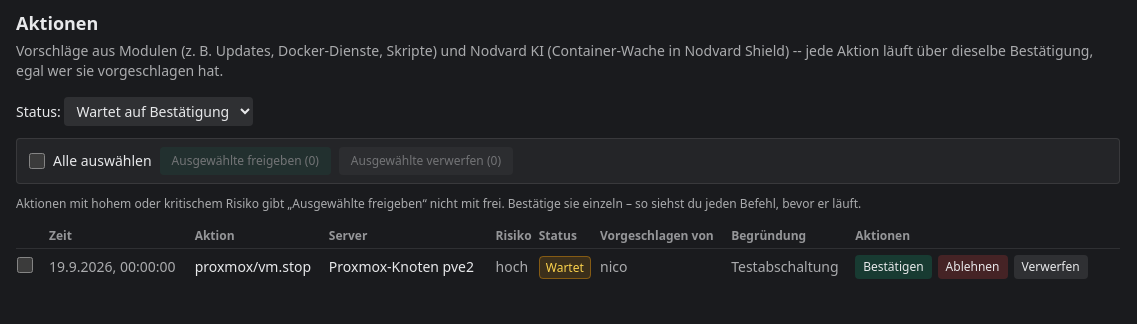
Test: ActionsPage › meldet eine fehlgeschlagene Ausführung mit Grund statt „Bestätigt“
Click the button "Bestätigen": click(893, 267) [855,255,932,279]
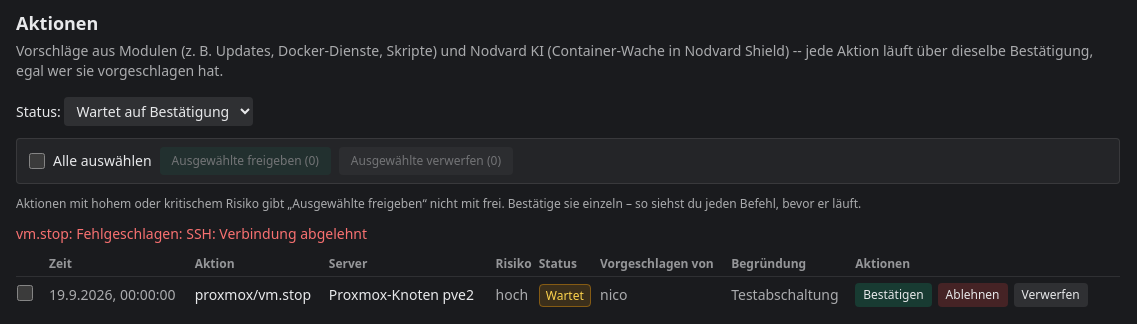
Expected: the text "vm.stop: Fehlgeschlagen: SSH: Verbindung abgelehnt" is shown, [16,224,367,243]
